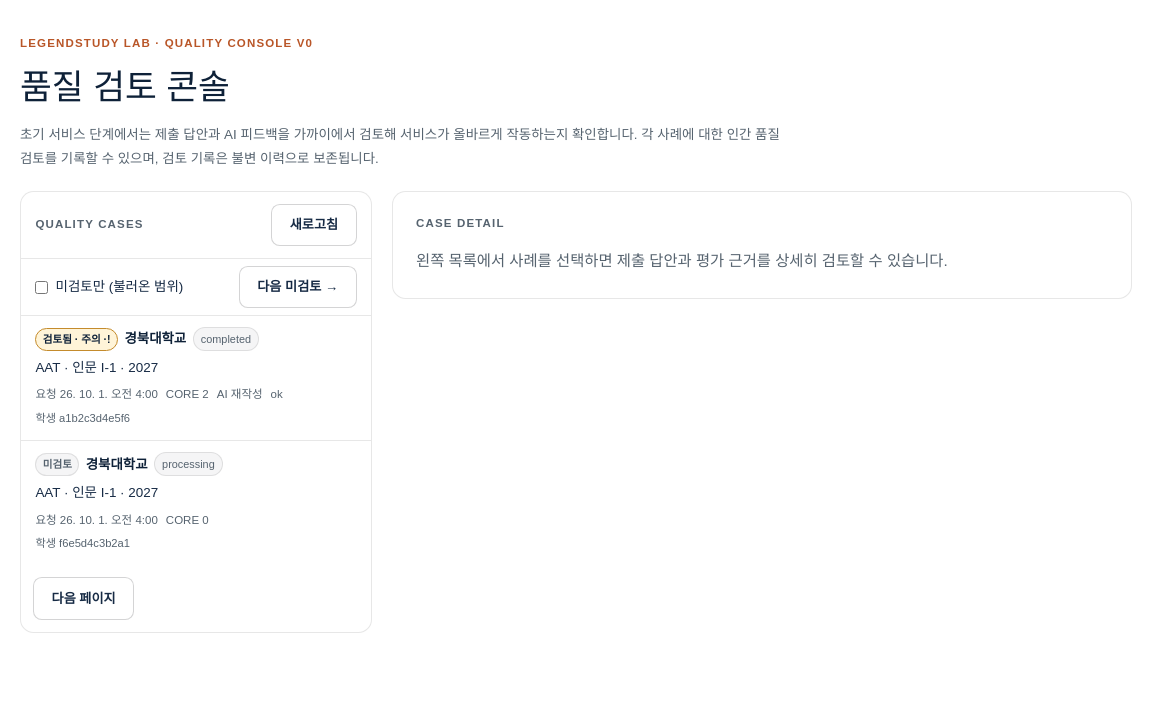
it: Quality Console review-state integration › H7: the 미검토 filter shows only unreviewed cases
expect the text "검토됨 · 주의 ·!" is shown: met, box [35, 328, 118, 351]
Click the checkbox labelled "미검토만 (불러온 범위)" at coordinates (42, 287), box [35, 280, 48, 294]
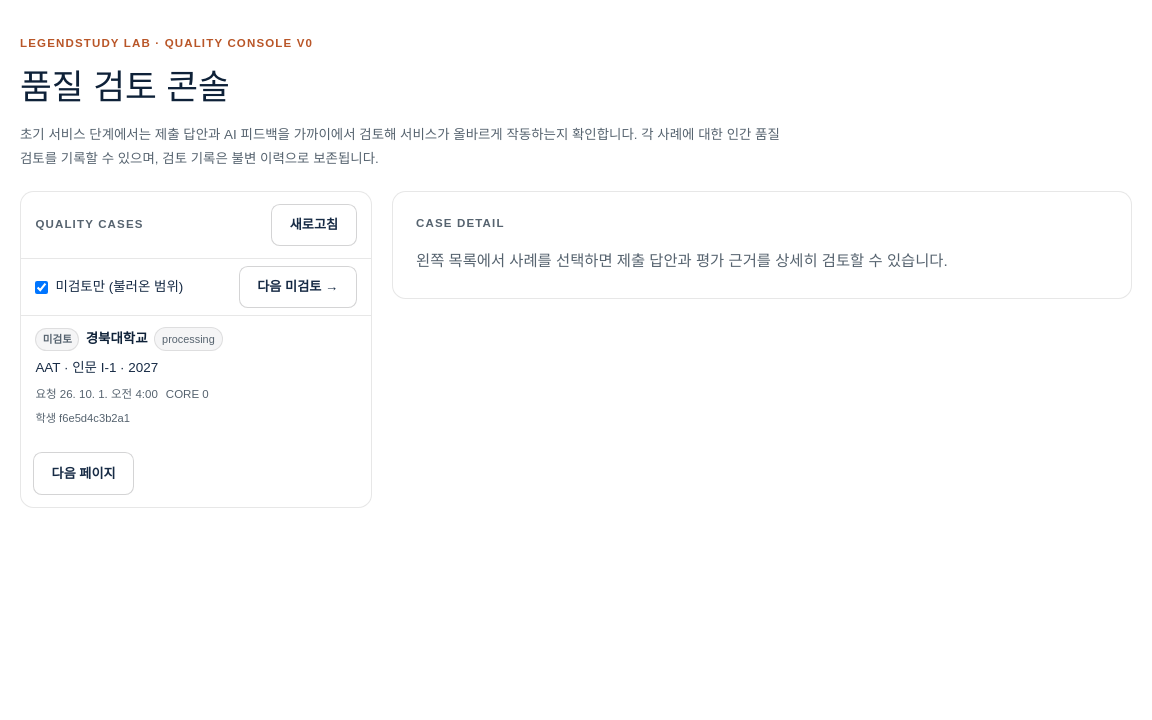
expect the text "미검토" is shown: met, box [35, 328, 79, 351]
expect the button "검토됨 · 주의" is gone: met
